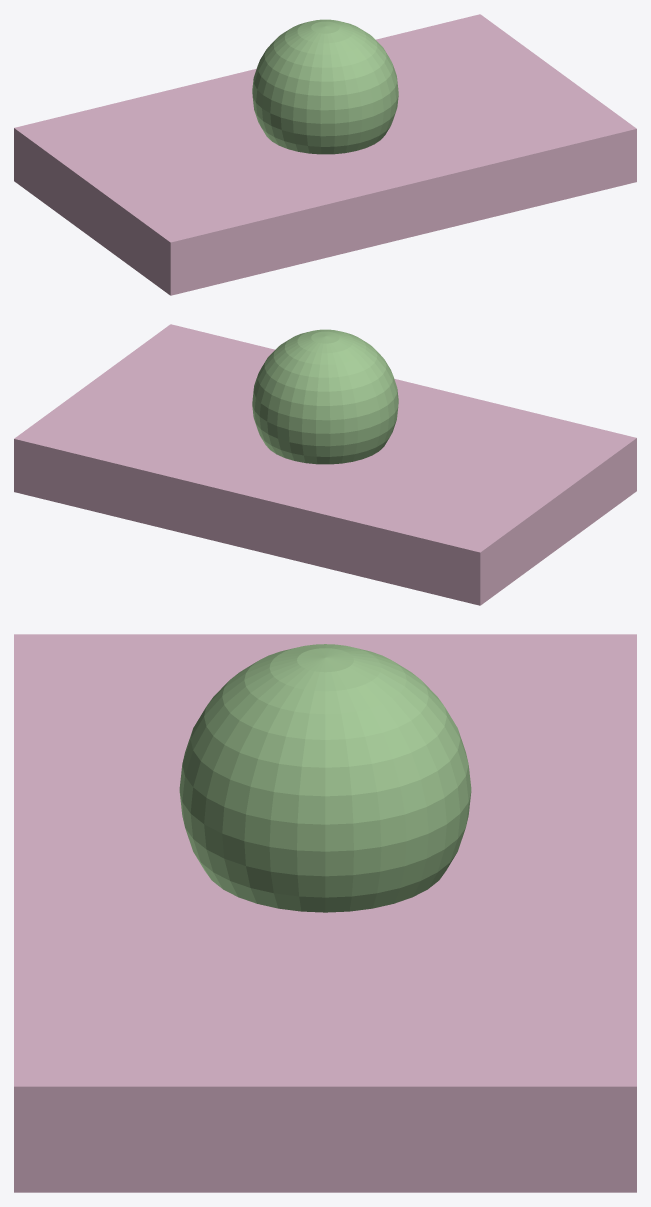
The model's file is MOD_FLOWERBED_STANDARD_001_LOD_GAMEPLAY.glb.
3 renders of one model, top to bottom at view 1: azimuth 30°, elevation 25°; view 2: azimuth 150°, elevation 25°; view 3: azimuth 270°, elevation 25°, orthographic. The views are drawn at different scales.
Parts seen in each view (by area): view 1: MOD_FLOWERBED_STANDARD_001_GAMEPLAY_BED, MOD_FLOWERBED_STANDARD_001_GAMEPLAY_PLANT_CLUSTER; view 2: MOD_FLOWERBED_STANDARD_001_GAMEPLAY_BED, MOD_FLOWERBED_STANDARD_001_GAMEPLAY_PLANT_CLUSTER; view 3: MOD_FLOWERBED_STANDARD_001_GAMEPLAY_BED, MOD_FLOWERBED_STANDARD_001_GAMEPLAY_PLANT_CLUSTER.
Part boxes in pixels (x1,y1,x2,y2): MOD_FLOWERBED_STANDARD_001_GAMEPLAY_BED: (14,14,636,295); MOD_FLOWERBED_STANDARD_001_GAMEPLAY_PLANT_CLUSTER: (252,19,398,154); MOD_FLOWERBED_STANDARD_001_GAMEPLAY_BED: (14,324,636,605); MOD_FLOWERBED_STANDARD_001_GAMEPLAY_PLANT_CLUSTER: (252,329,398,464); MOD_FLOWERBED_STANDARD_001_GAMEPLAY_BED: (14,634,636,1192); MOD_FLOWERBED_STANDARD_001_GAMEPLAY_PLANT_CLUSTER: (179,644,471,912).
Bounding box in the file's own units: 1.1 × 0.35 × 0.64.
